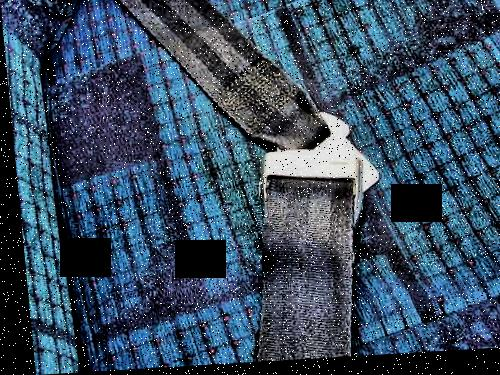seatbelt: (123, 0, 409, 333)
